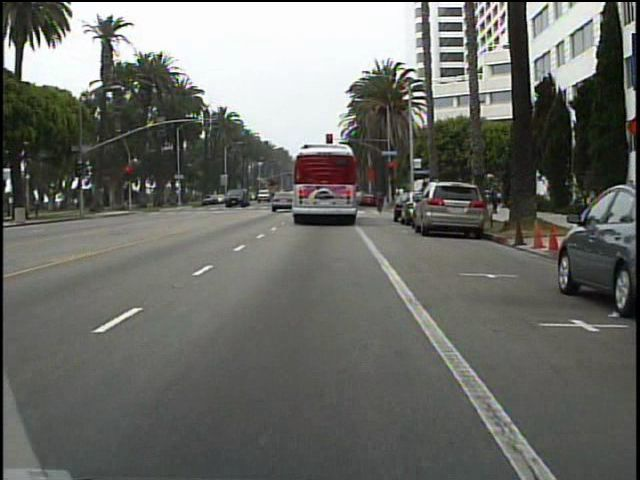person: (491, 184, 502, 218)
